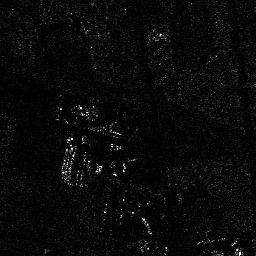ship: (61, 134, 79, 181)
